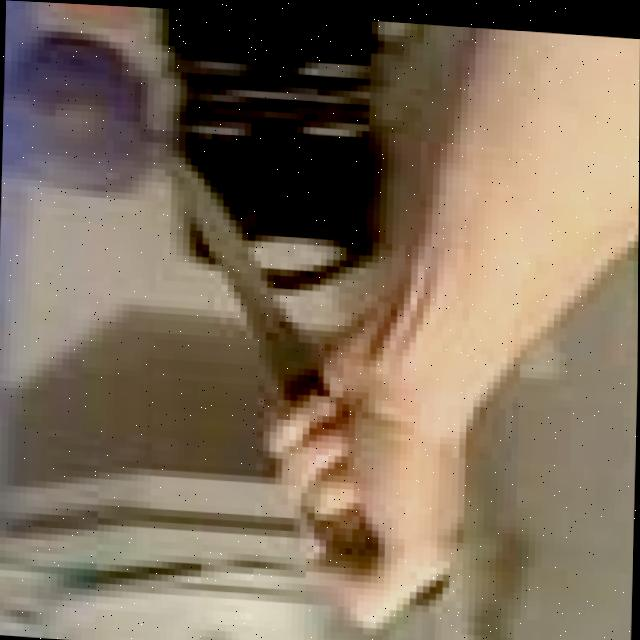knife: (144, 164, 351, 403)
